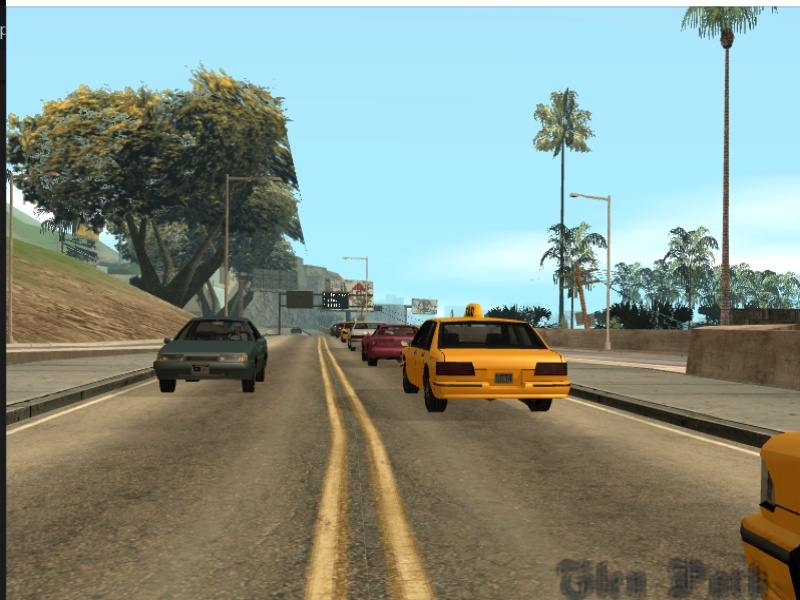pole: (219, 174, 241, 316), (602, 193, 617, 358)
vehicle: (400, 312, 573, 413), (151, 313, 273, 397), (362, 317, 414, 359), (350, 318, 375, 347)
